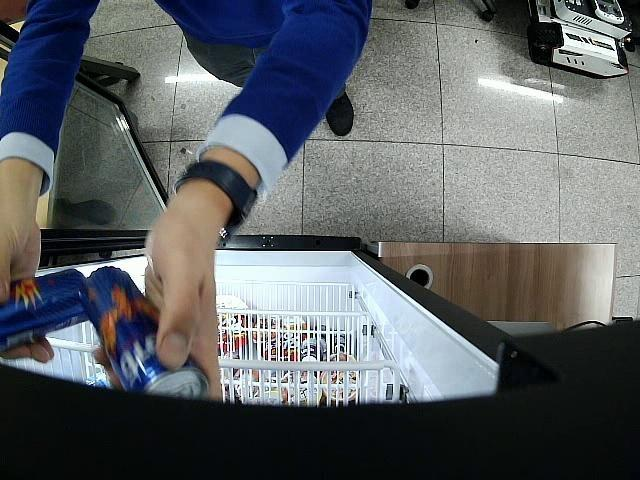16_hot6: (78, 266, 210, 404), (2, 269, 92, 352)
